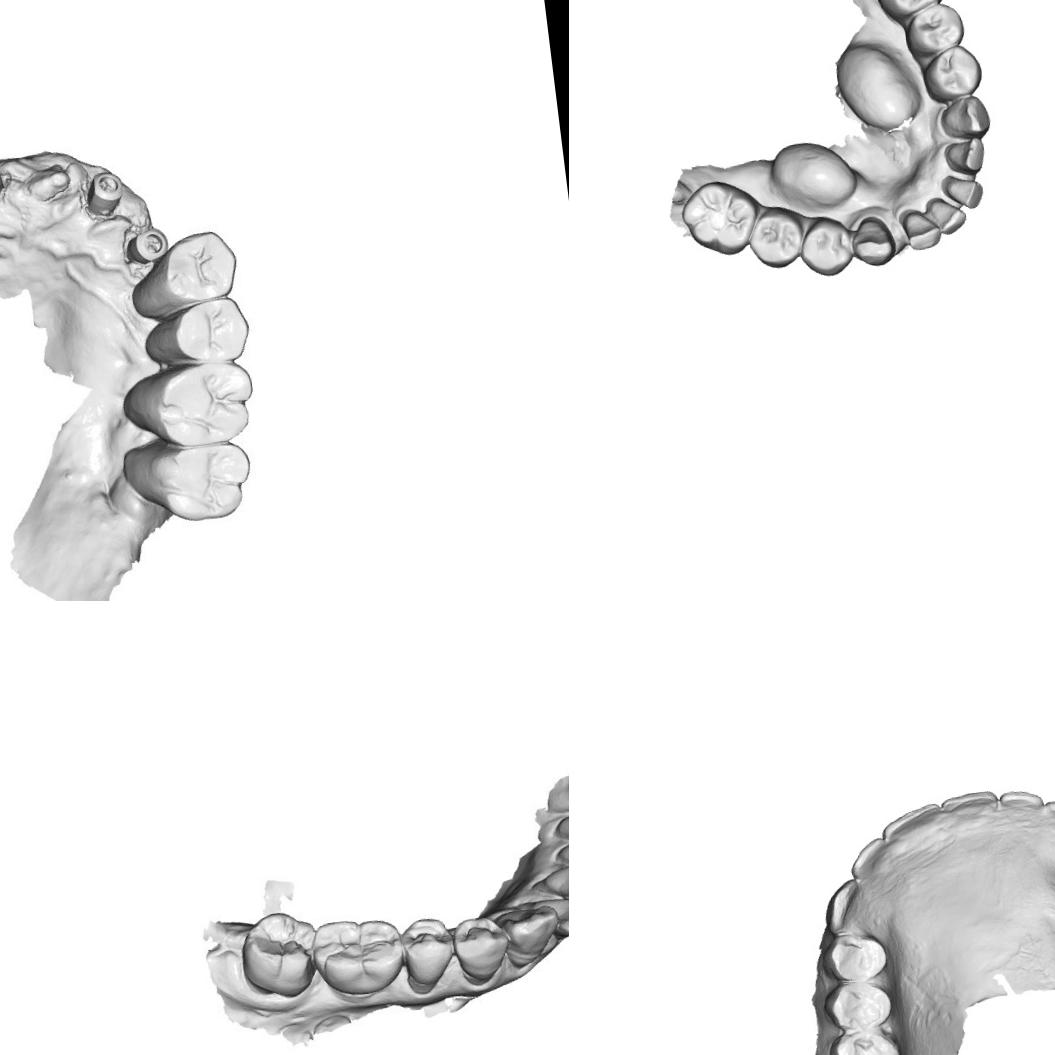canine: (502, 898, 564, 966), (818, 876, 875, 939), (847, 213, 899, 270), (936, 92, 994, 143), (1040, 793, 1055, 849)
implant: (83, 173, 130, 216), (123, 224, 170, 264), (0, 152, 12, 209)
incisor: (880, 800, 946, 856), (935, 786, 1003, 838), (846, 833, 894, 891), (940, 135, 989, 180), (996, 785, 1048, 826), (900, 205, 944, 252), (925, 195, 970, 238), (944, 175, 987, 212), (540, 884, 569, 938), (545, 854, 569, 901), (554, 793, 569, 841)
molar: (152, 358, 260, 445), (237, 910, 323, 1011), (309, 910, 403, 996), (676, 174, 765, 262), (166, 438, 253, 520), (823, 1023, 907, 1055), (866, 0, 949, 22)
premolar: (172, 294, 254, 362), (162, 231, 234, 302), (820, 974, 896, 1036), (816, 927, 894, 987), (743, 202, 808, 273), (918, 41, 986, 105), (901, 0, 970, 61), (797, 212, 856, 280), (452, 912, 510, 977), (402, 913, 457, 975)
